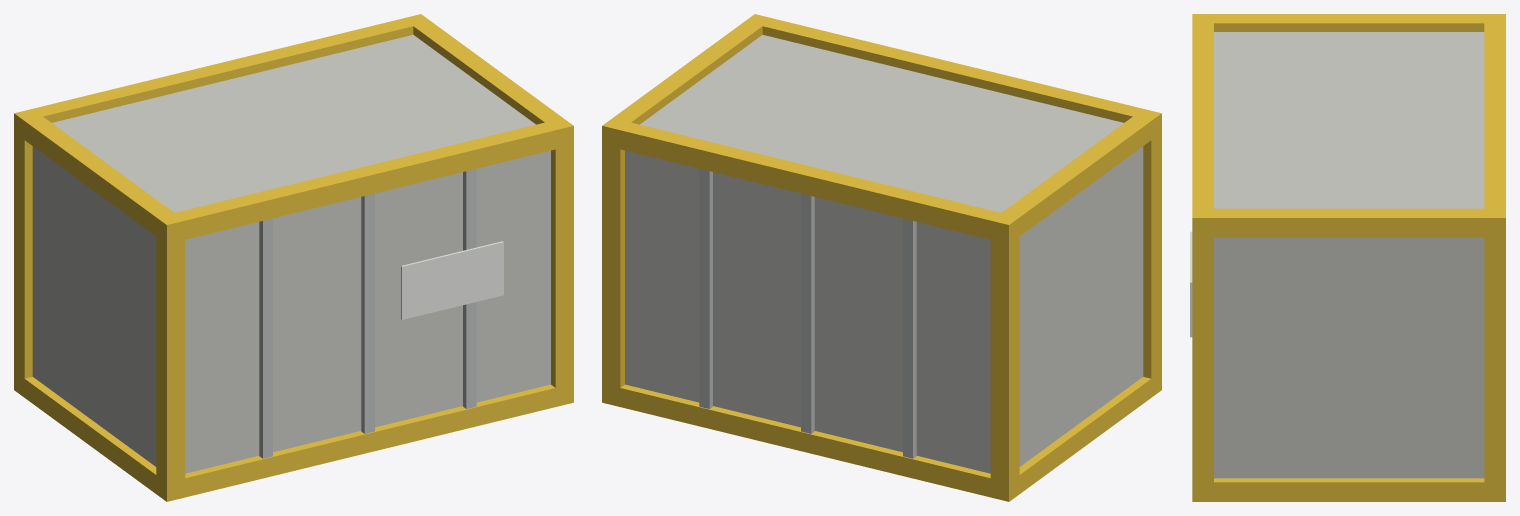
File: kit_crate_l.glb
3 views of the same model, side by side, from view 1: azimuth 30°, elevation 25°; view 2: azimuth 150°, elevation 25°; view 3: azimuth 270°, elevation 25° (orthographic). The views are drawn at different scales.
Visible parts, largest first — view 1: body.001, frame, ribs, label.001; view 2: body.001, frame, ribs; view 3: body.001, frame.
Boxes of the visible parts, <box> form: body.001: <box>32,34,550,473</box>; frame: <box>14,14,573,501</box>; ribs: <box>259,168,476,458</box>; label.001: <box>401,241,503,319</box>; body.001: <box>625,34,1143,473</box>; frame: <box>602,14,1161,501</box>; ribs: <box>699,168,916,458</box>; body.001: <box>1214,32,1484,478</box>; frame: <box>1192,14,1505,501</box>.
Size of the model in its own units: 2 by 1.3 by 1.31.
